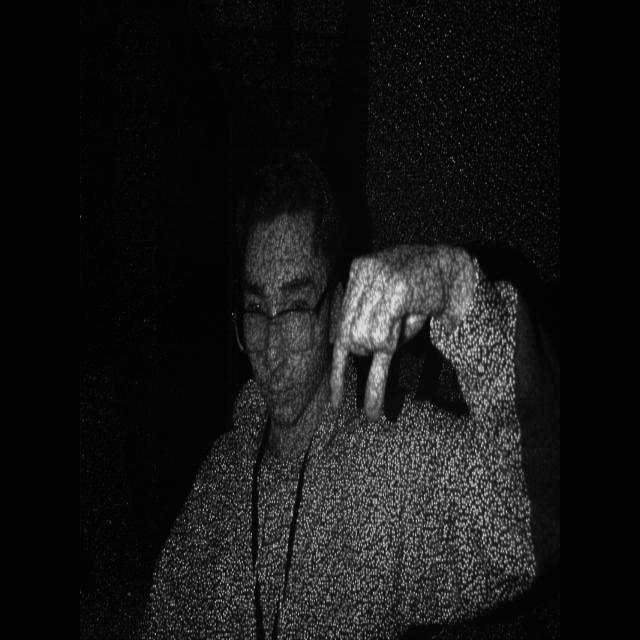Q: (318, 231, 484, 439)
